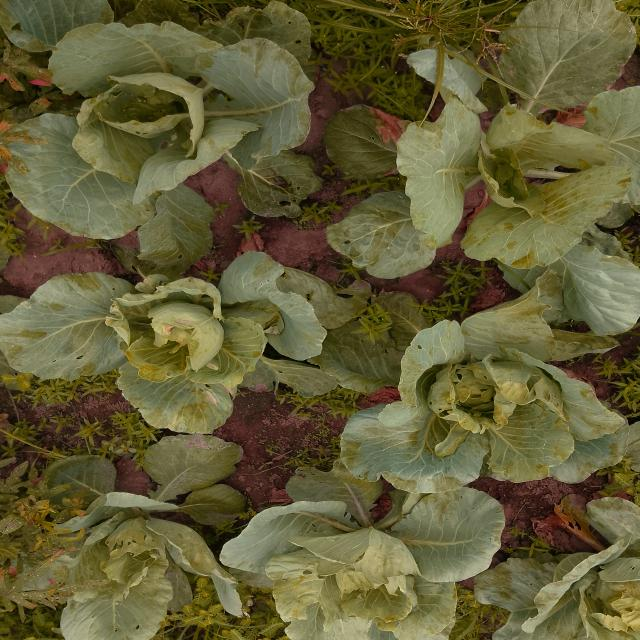Cabbage: (0, 1, 428, 277), (341, 1, 640, 309), (301, 316, 634, 498), (0, 243, 306, 424), (25, 426, 251, 640), (240, 479, 482, 640), (492, 472, 640, 640)
